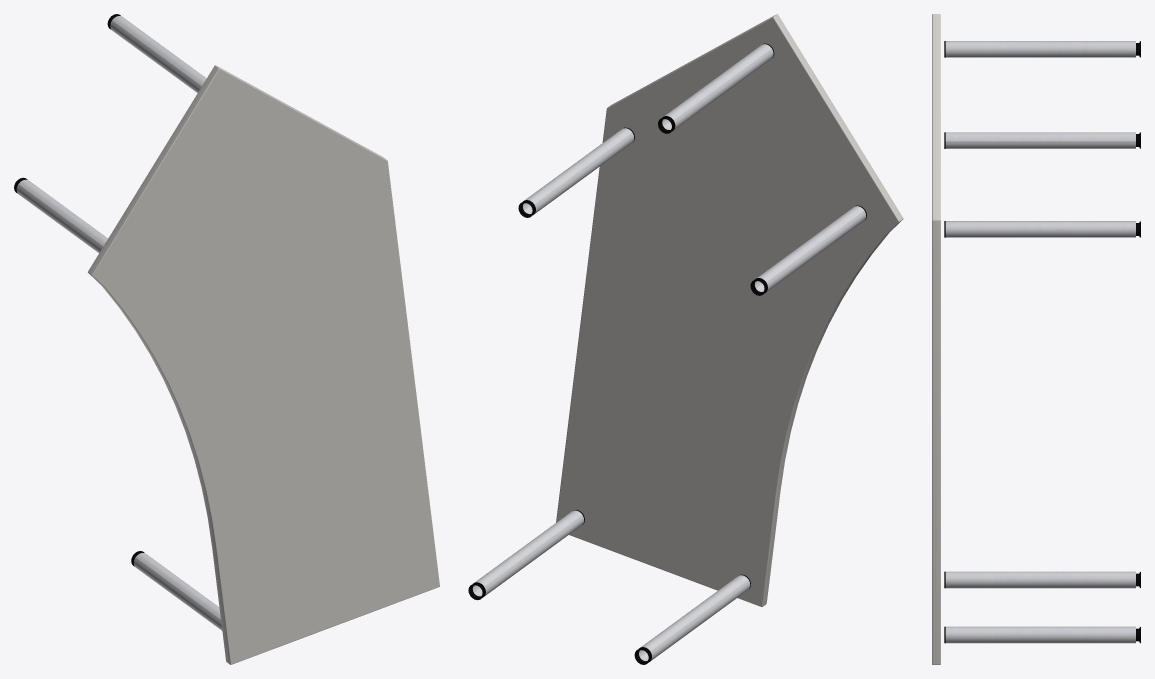
Rendered from Table01.obj.
3 renders of one model, left to right at view 1: azimuth 30°, elevation 25°; view 2: azimuth 150°, elevation 25°; view 3: azimuth 270°, elevation 25°, orthographic. The views are drawn at different scales.
Visible parts, largest first — view 1: Table01; view 2: Table01; view 3: Table01.
Boxes of the visible parts, <box> form: Table01: <box>14,14,439,664</box>; Table01: <box>468,14,903,664</box>; Table01: <box>932,14,1140,664</box>.
Size of the model in its own units: 1.32 by 2.17 by 0.715.
Materials: 3 (1 with a texture image).
